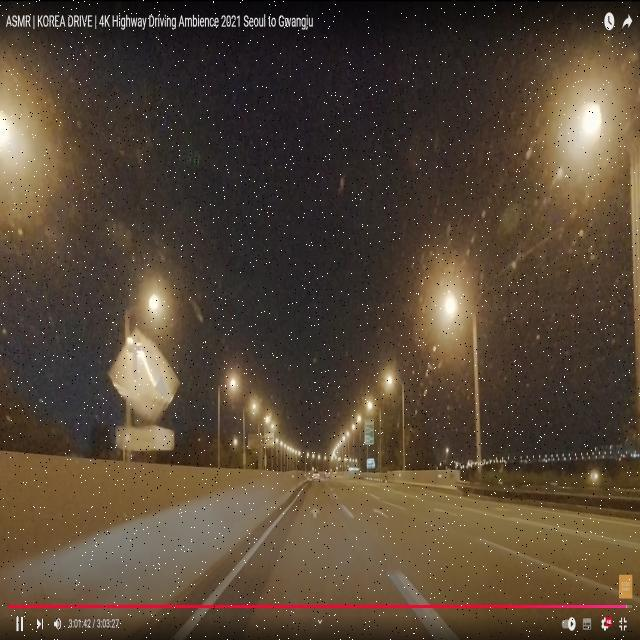forward: (265, 505, 362, 521)
